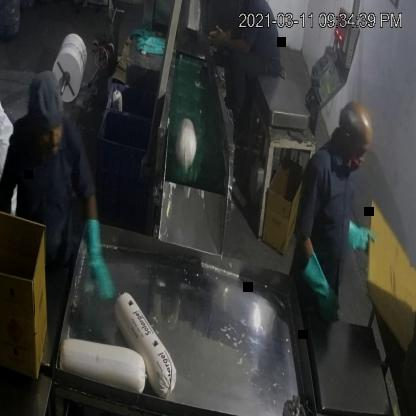glove: (296, 243, 344, 329), (87, 211, 114, 309), (337, 219, 373, 262)
no_glove: (203, 23, 256, 66)
